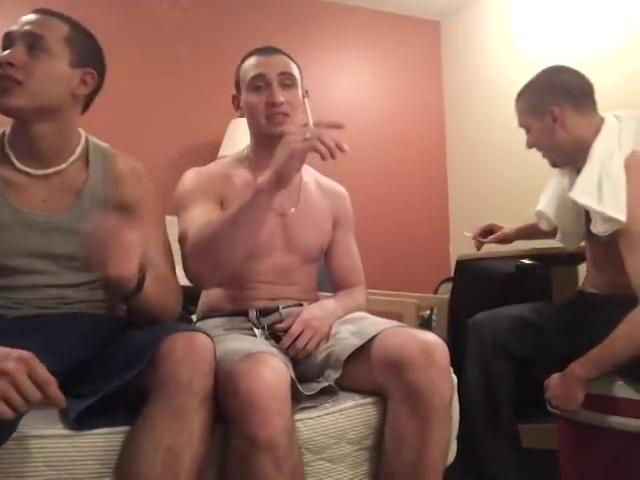cigarette: (302, 90, 317, 131), (463, 230, 490, 245)
